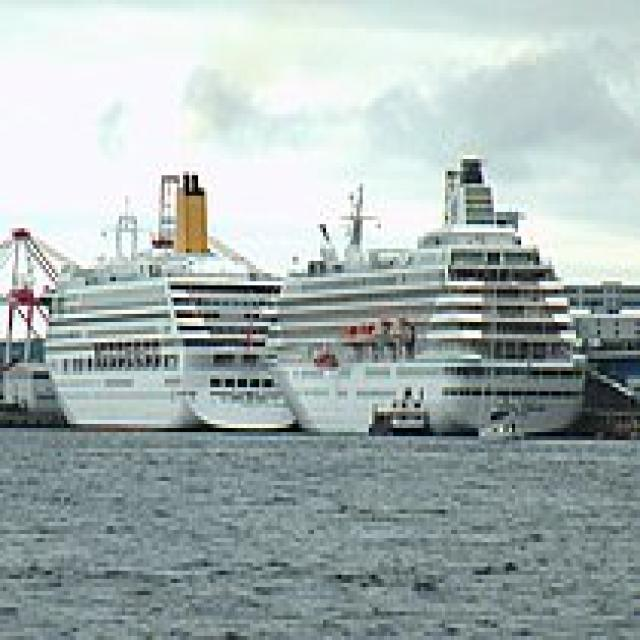Cruise: (259, 151, 585, 436), (34, 163, 298, 432)
